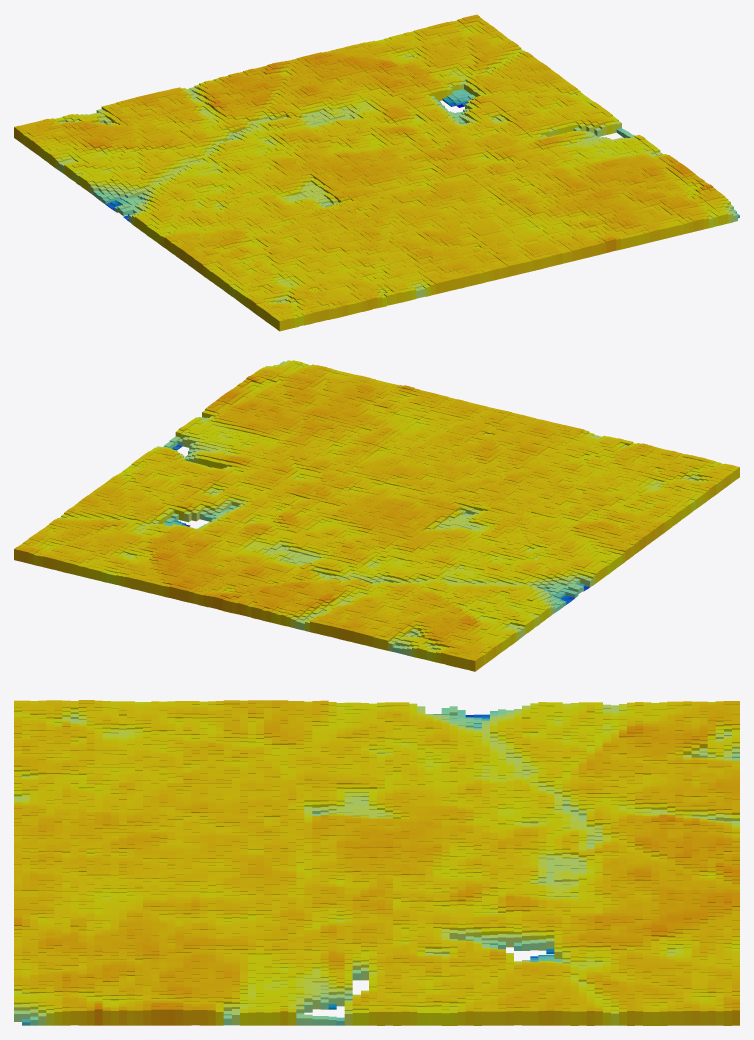
Rendered from population.glb.
3 renders of one model, top to bottom at view 1: azimuth 30°, elevation 25°; view 2: azimuth 150°, elevation 25°; view 3: azimuth 270°, elevation 25°, orthographic. The views are drawn at different scales.
Parts seen in each view (by area): view 1: population; view 2: population; view 3: population.
Boxes of the visible parts, x1,y1,x2,y2 form: population: [14, 14, 739, 331]; population: [14, 360, 739, 671]; population: [14, 700, 739, 1025].
Bounding box in the file's own units: 9011 × 238 × 8951.
